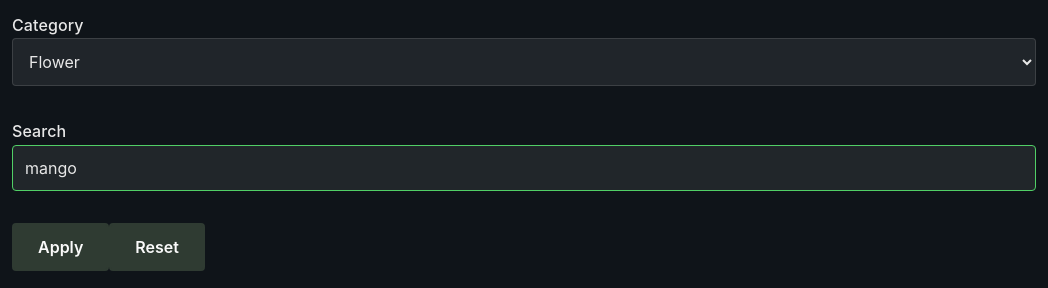
Test case: ProductsFilters › given the user clicks reset › clears all fields and navigates to bare /admin/products
This screenshot has width=1048, height=288.
Expected: the dropdown labelled "Category" shows "Flower", [12,38,1036,86]
Click the button "Reset" at (157, 247), box [109,223,205,271]
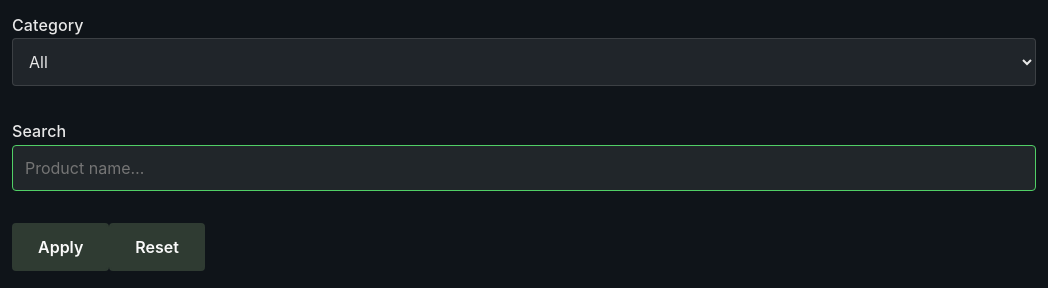
Expected: the dropdown labelled "Category" shows "All", [12,38,1036,86]
Expected: the search field labelled "Search" is empty, [12,145,1036,191]
